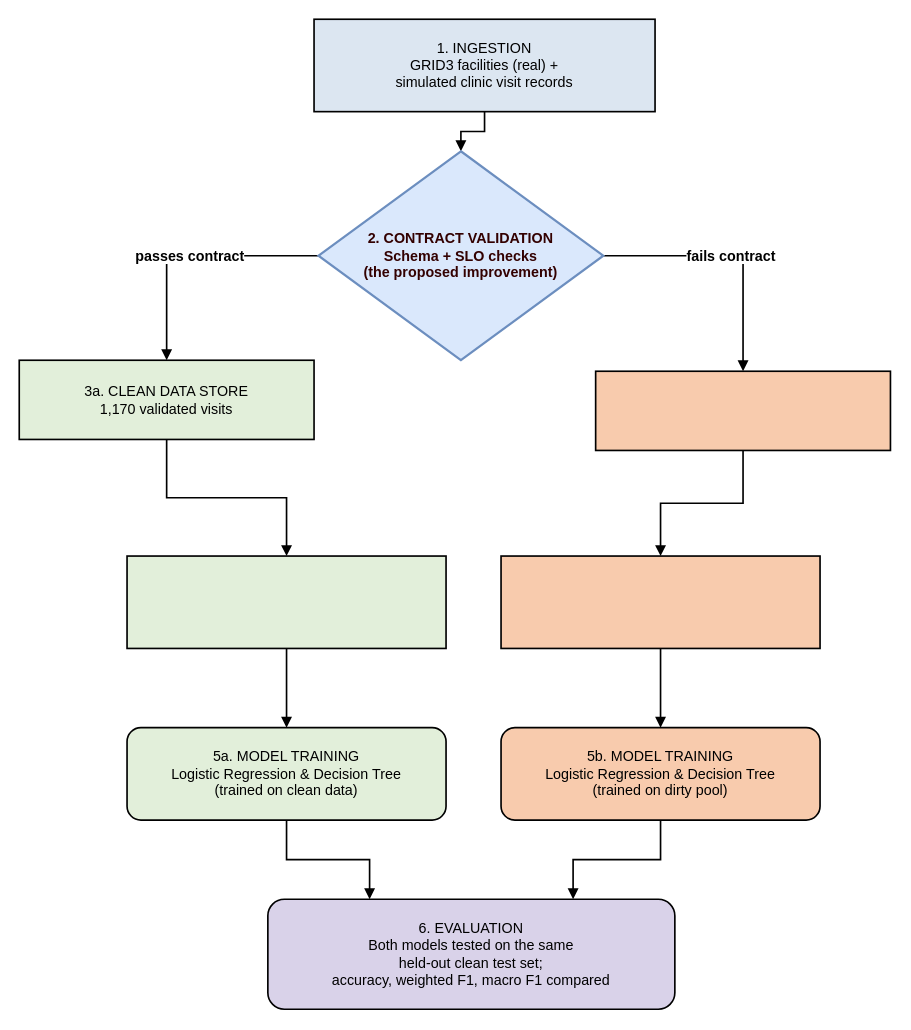
Some shapes in this 911 by 1030 pixel diagram are drawn without their labels. Each missing label, with the box of its shape:
3b. REJECTED RECORDS LOG 830 non-conforming visits: (594, 370, 891, 451)
4a. FEATURE ENGINEERING (diagnosis, age, visit type) from clean data only: (126, 555, 446, 649)
4b. FEATURE ENGINEERING clean training portion + rejected records combined: (500, 555, 820, 649)
